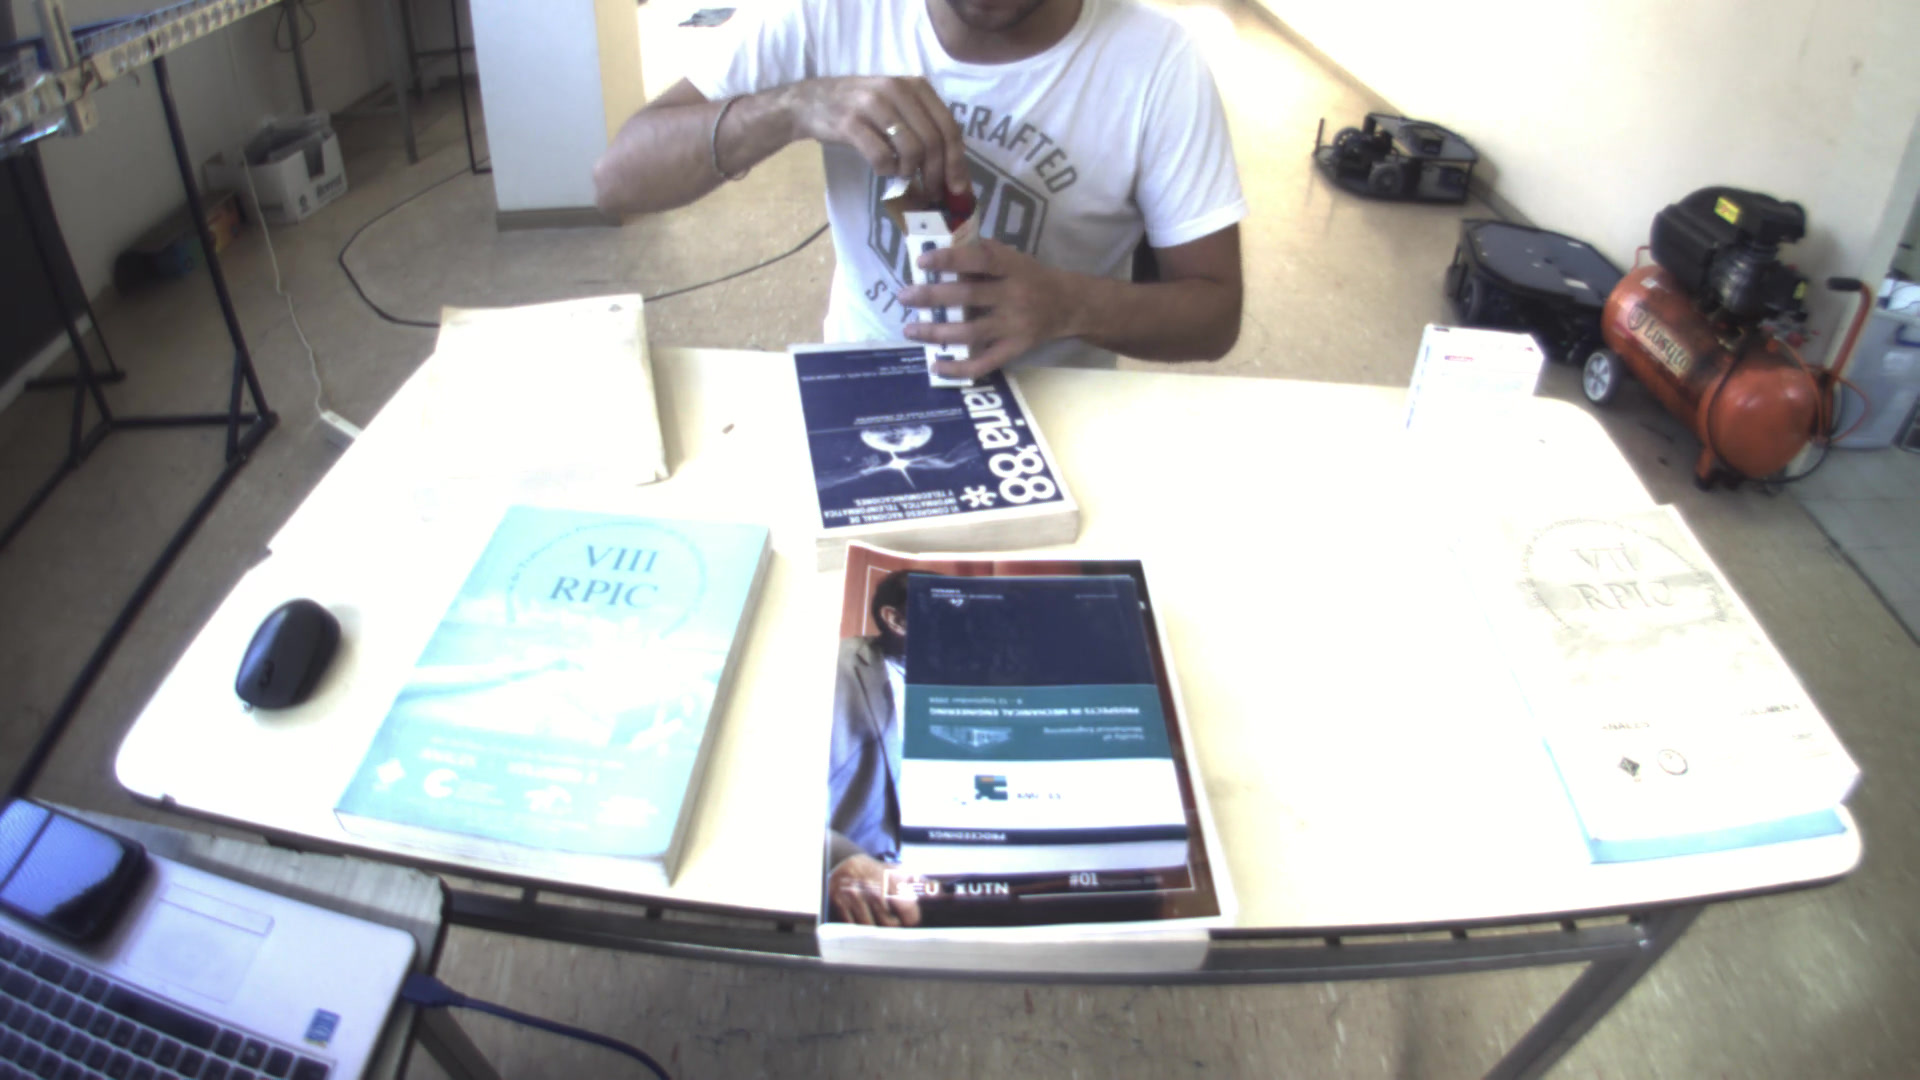hand: (891, 231, 1071, 380), (829, 67, 969, 199)
